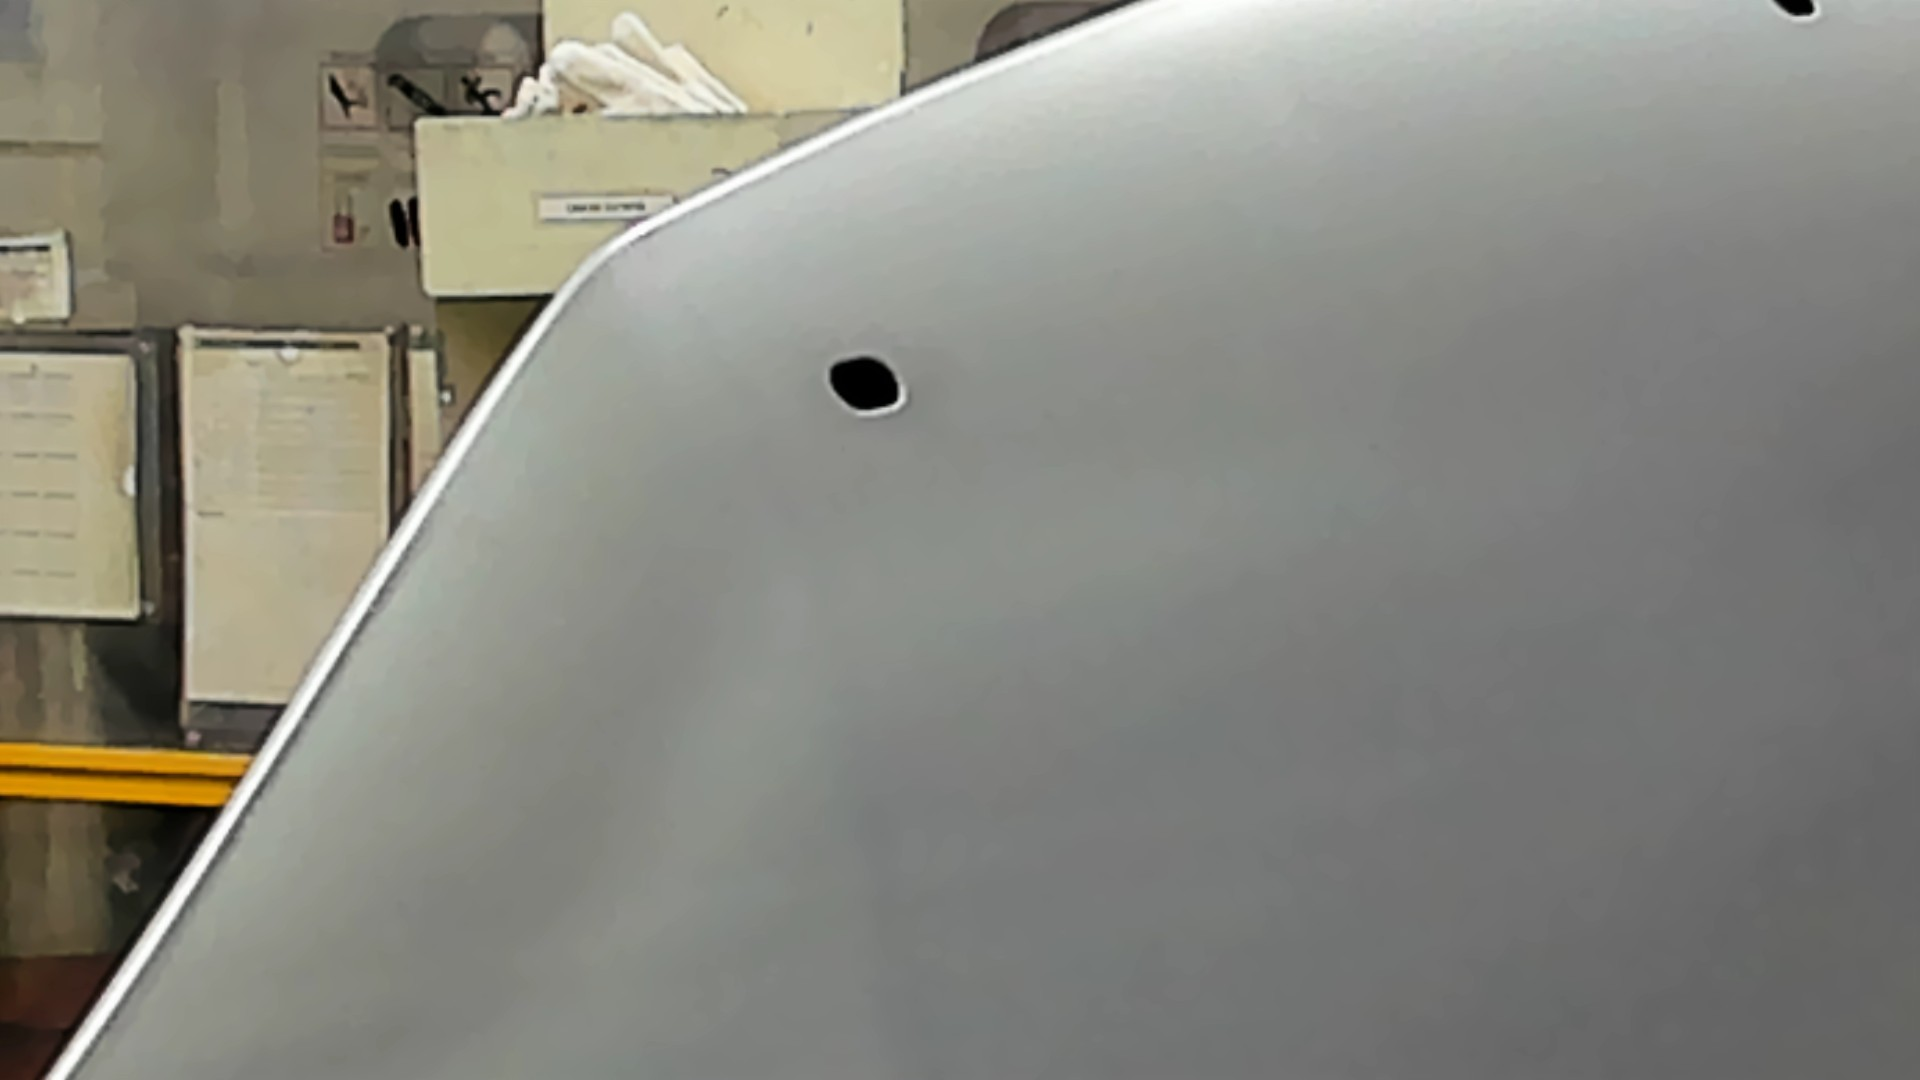amorfo: (816, 338, 914, 426)
capo: (1033, 82, 1920, 1080)
